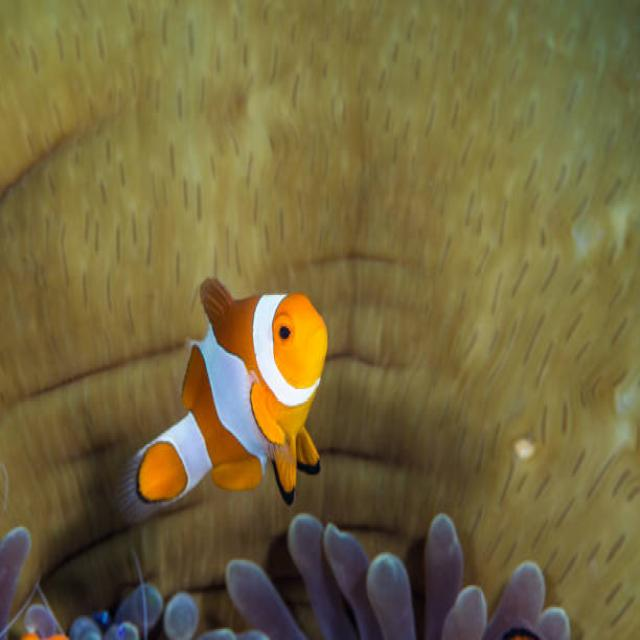ClownFish: (133, 276, 326, 508)
